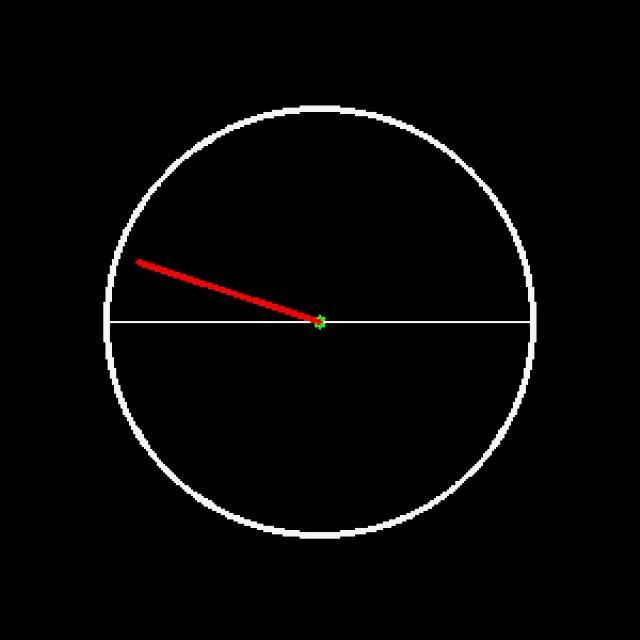Needle_Tip: (105, 238, 176, 293)
Needle_base: (292, 295, 350, 350)
